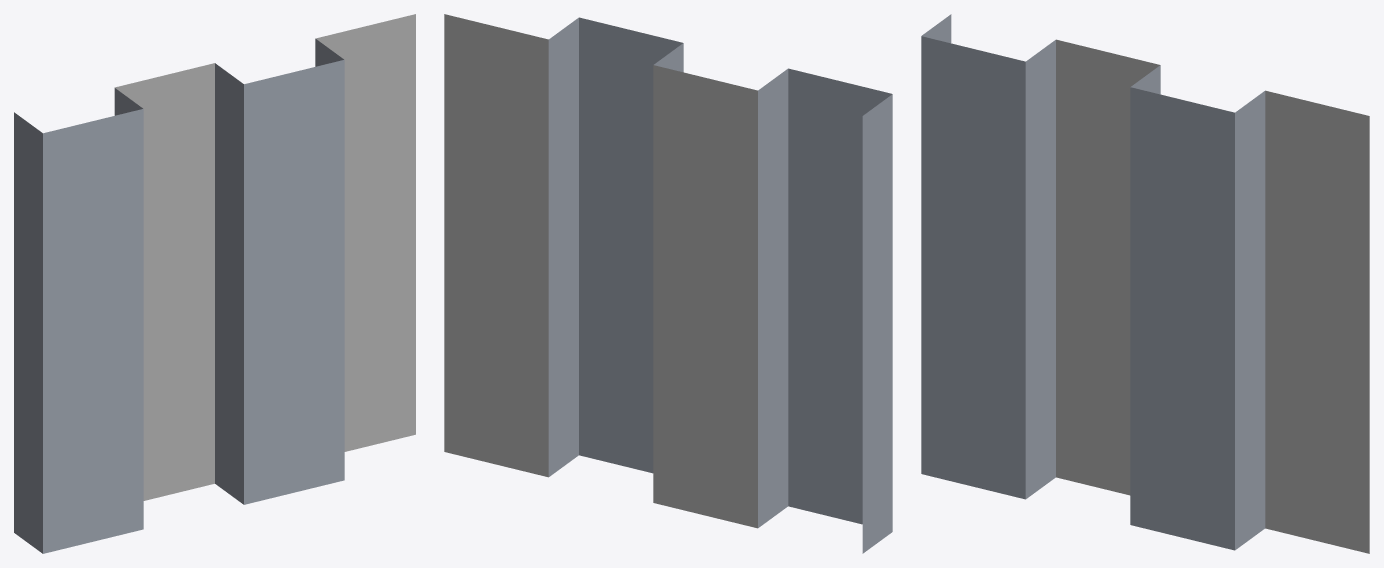
File: cell_179.obj
3 renders of one model, left to right at view 1: azimuth 30°, elevation 25°; view 2: azimuth 150°, elevation 25°; view 3: azimuth 330°, elevation 25°, orthographic. The views are drawn at different scales.
Bounding box in the file's own units: 1 × 1 × 0.125.
